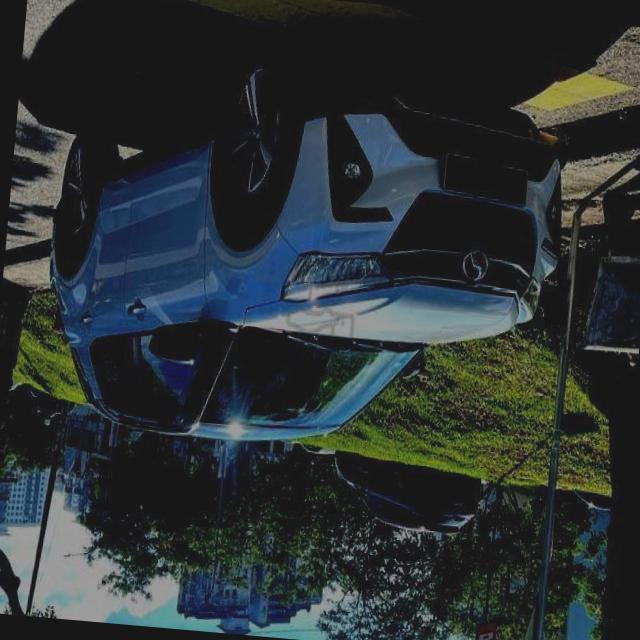PeroduaAtiva: (32, 41, 576, 471)
